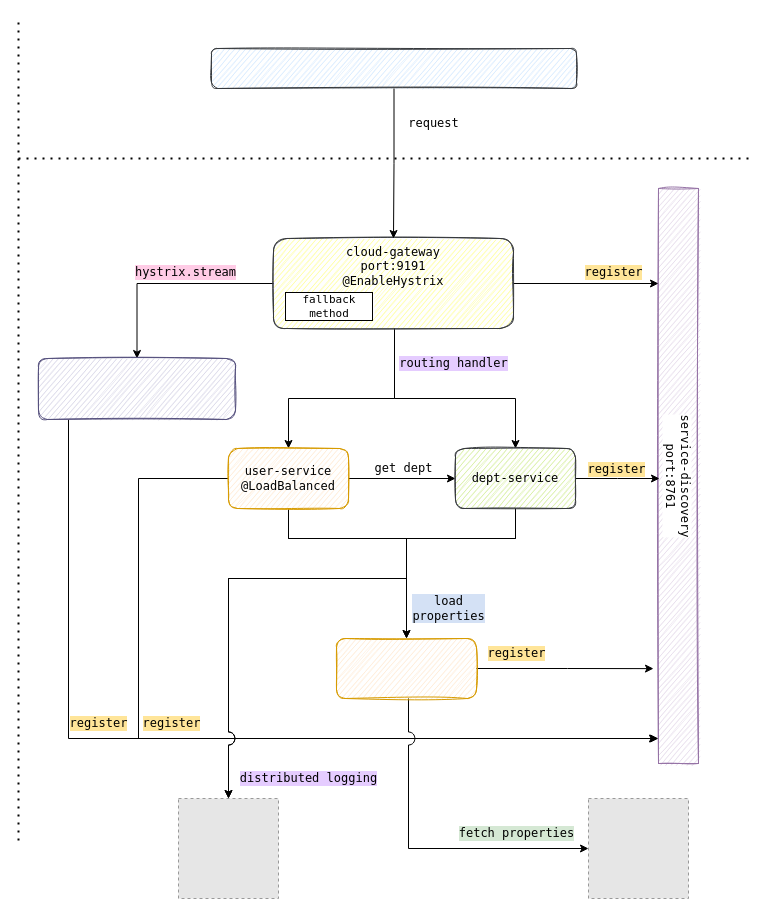
Image size: 767x916. Some labels were removed from this diagram. Grey dashed boxes stand in for pictures. The centre of each missing label's shape, as x and y in pixels:
client side: point 393,68
config-server @ EnableConfigServer: point 406,668
hystrix-dashboard port:9295 @EnableHystrixDashboard: point 137,389
